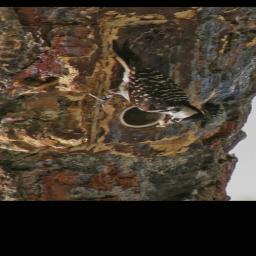Woodpecker: (88, 40, 205, 127)
